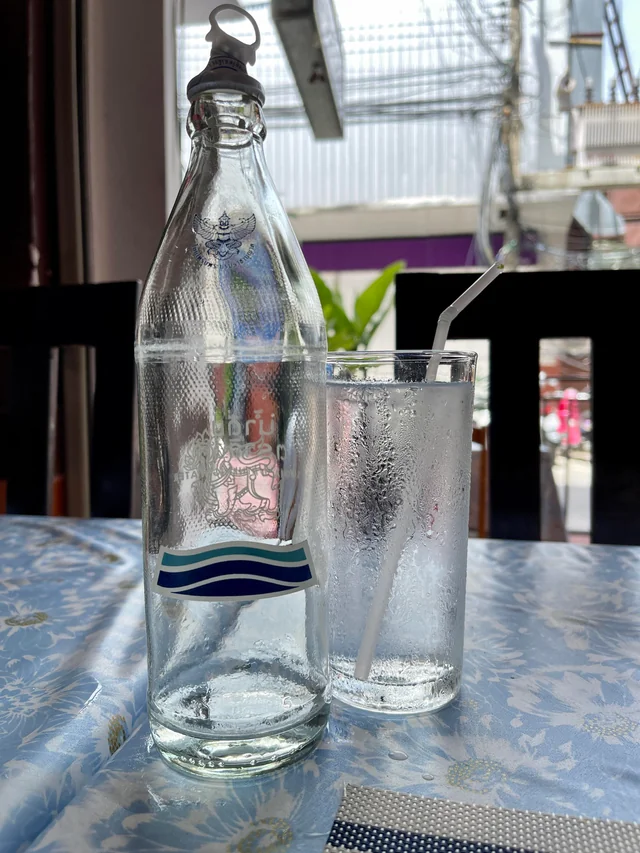glass_bottle: (127, 2, 340, 783)
